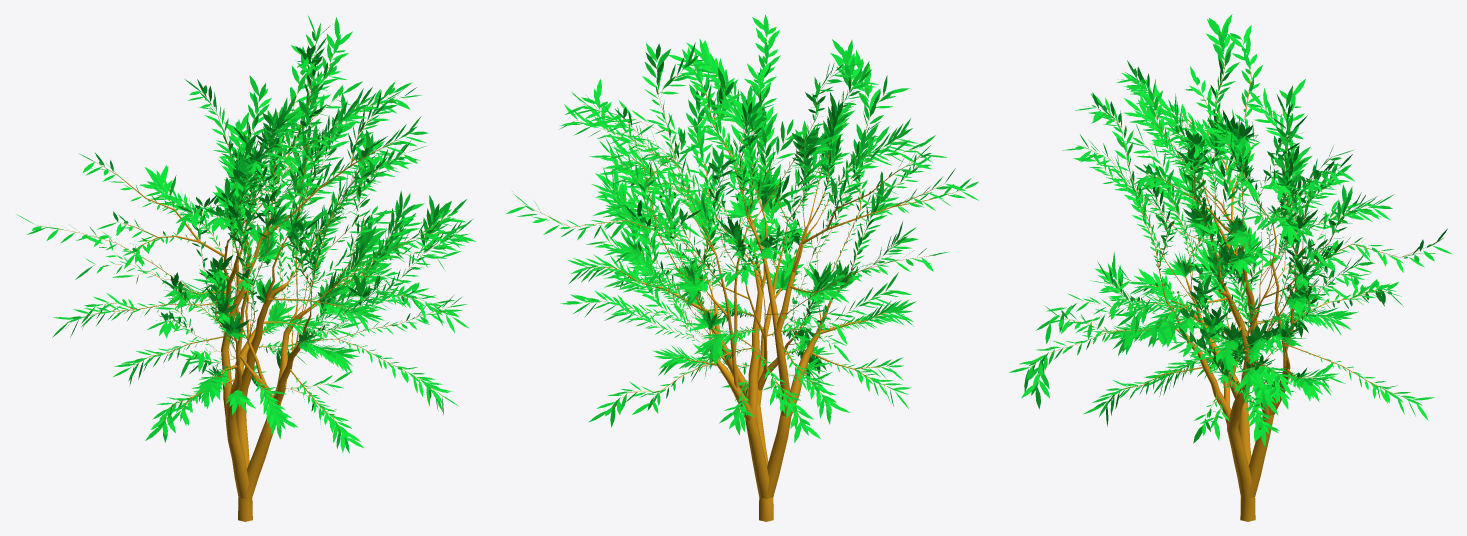
Rendered from iva.fbx.
The picture shows the model from 3 angles, left to right: view 1: azimuth 30°, elevation 25°; view 2: azimuth 150°, elevation 25°; view 3: azimuth 270°, elevation 25°; orthographic projection.
Parts seen in each view (by area): view 1: leaves, tree; view 2: leaves, tree; view 3: leaves, tree.
Part boxes in pixels (bbox=[...]): leaves: bbox=[16, 15, 475, 453]; tree: bbox=[36, 36, 449, 521]; leaves: bbox=[505, 14, 978, 442]; tree: bbox=[523, 38, 964, 521]; leaves: bbox=[1009, 14, 1452, 446]; tree: bbox=[1030, 32, 1434, 521].
Bounding box in the file's own units: 836 × 788 × 928.
